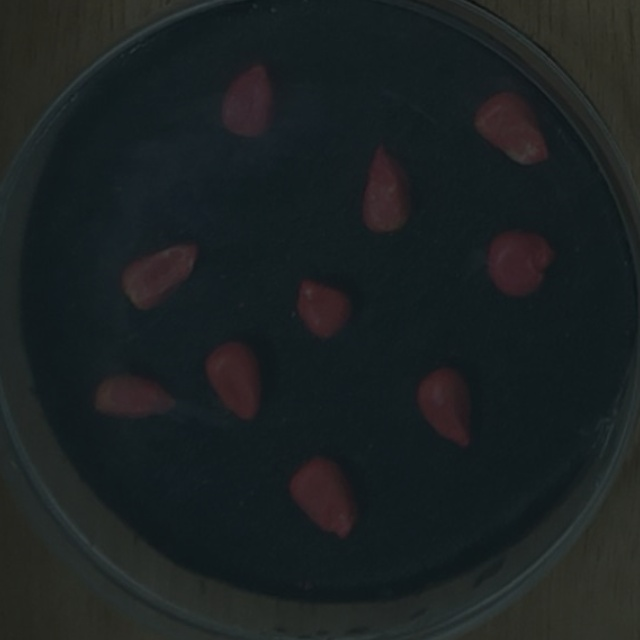Zea mays: (281, 448, 367, 546), (467, 83, 558, 172), (114, 232, 206, 320), (480, 219, 564, 307), (356, 134, 420, 241), (410, 358, 480, 455), (198, 332, 270, 425), (214, 54, 283, 143), (89, 366, 187, 425), (288, 270, 362, 348)
